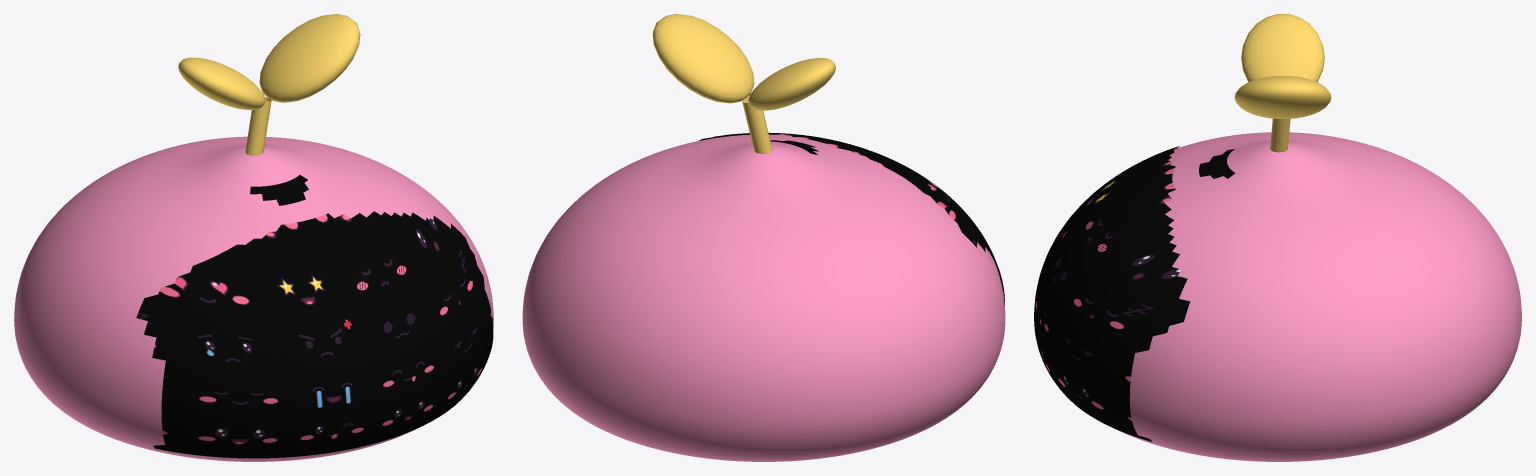
File: LeafJelly.obj
The picture shows the model from 3 angles, left to right: view 1: azimuth 30°, elevation 25°; view 2: azimuth 150°, elevation 25°; view 3: azimuth 270°, elevation 25°; orthographic projection.
Parts seen in each view (by area): view 1: LeafJelly; view 2: LeafJelly; view 3: LeafJelly.
Part boxes in pixels (x1,y1,x2,y2): LeafJelly: [14, 14, 493, 461]; LeafJelly: [522, 14, 1005, 461]; LeafJelly: [1034, 14, 1521, 461].
Size of the model in its own units: 1.16 by 0.902 by 1.16.
